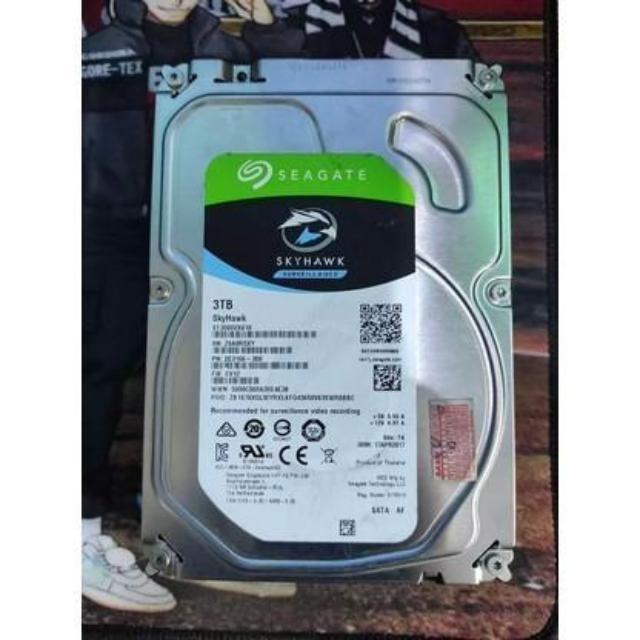DISK: (135, 46, 520, 589)
